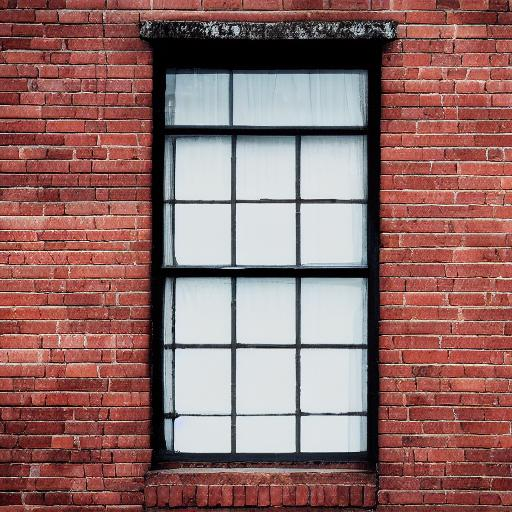Window: (129, 20, 404, 512)
